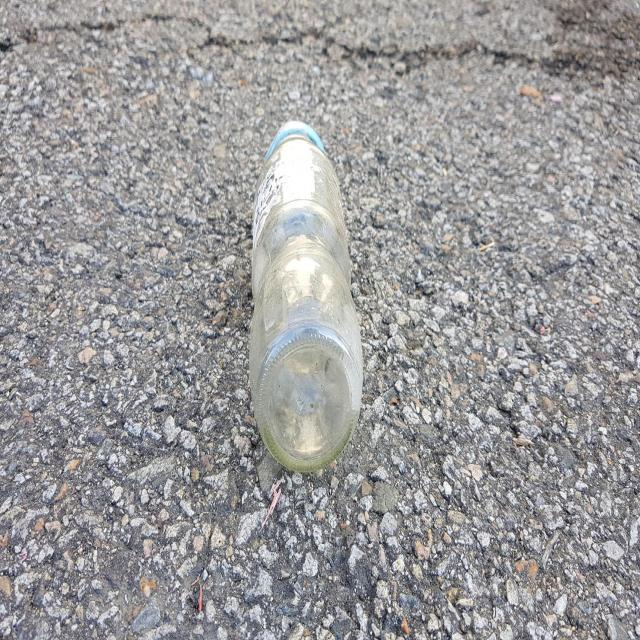glass: (250, 120, 363, 471)
